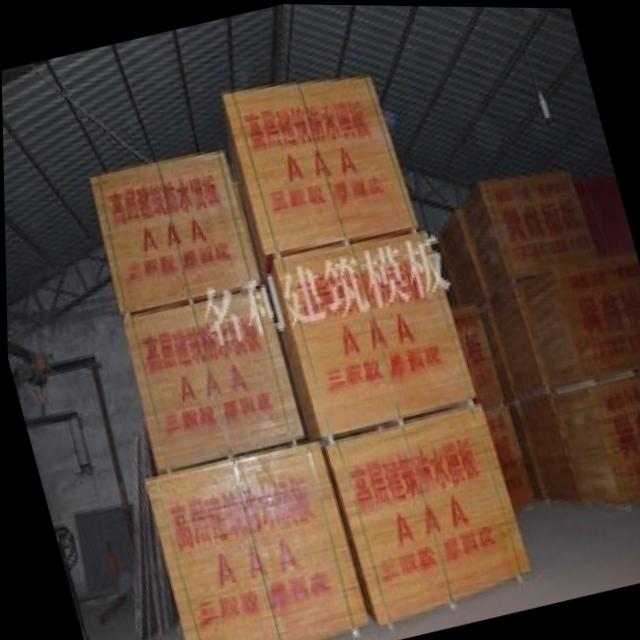box: (319, 398, 529, 623), (262, 228, 475, 441), (142, 445, 366, 640), (222, 71, 418, 282), (120, 286, 307, 474), (88, 149, 262, 314), (462, 165, 597, 299), (522, 249, 640, 391), (550, 369, 640, 504), (475, 271, 546, 401), (515, 388, 584, 497), (474, 395, 534, 505), (447, 303, 503, 401), (436, 206, 488, 303), (572, 171, 632, 249)
